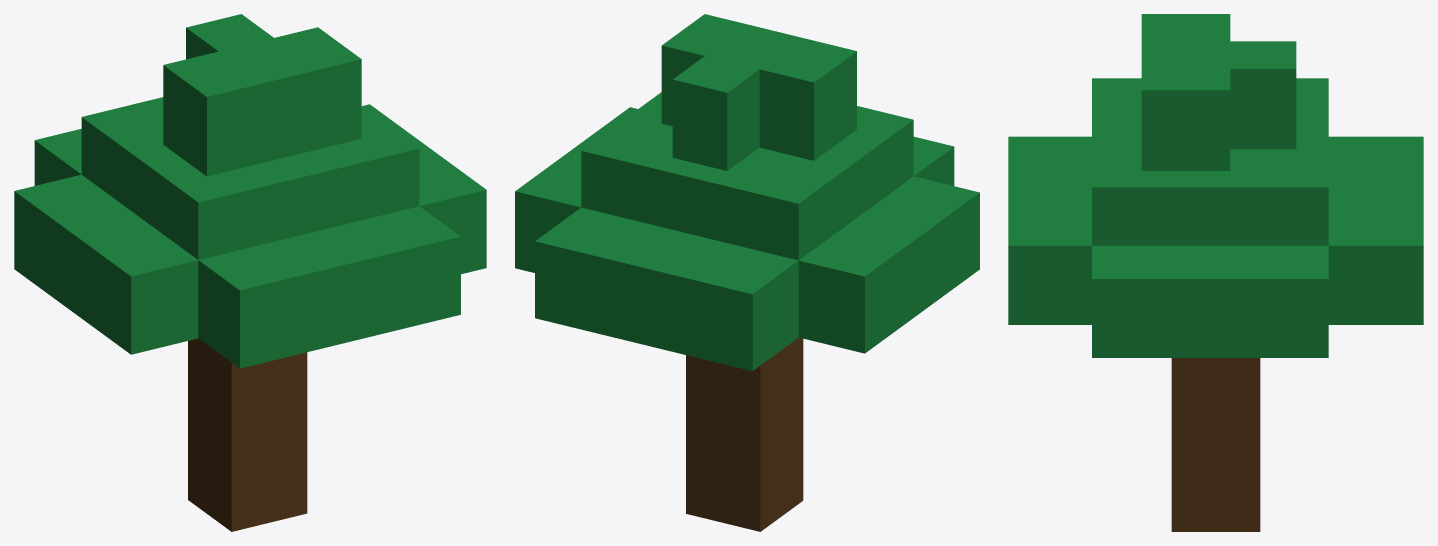
The picture shows the model from 3 angles, left to right: view 1: azimuth 30°, elevation 25°; view 2: azimuth 150°, elevation 25°; view 3: azimuth 270°, elevation 25°; orthographic projection. The views are drawn at different scales.
Visible parts, largest first — view 1: 立方体.016; view 2: 立方体.016; view 3: 立方体.016.
Boxes of the visible parts, box(x1,y1,x2,y2) form: 立方体.016: box(14, 14, 486, 531); 立方体.016: box(515, 14, 979, 531); 立方体.016: box(1008, 14, 1423, 531).
Bounding box in the file's own units: 940 × 1150 × 940.
